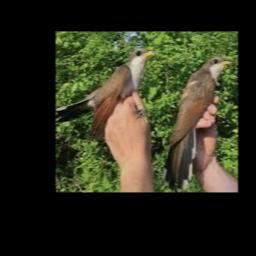Cuckoo: (56, 48, 155, 143), (164, 56, 231, 191)
